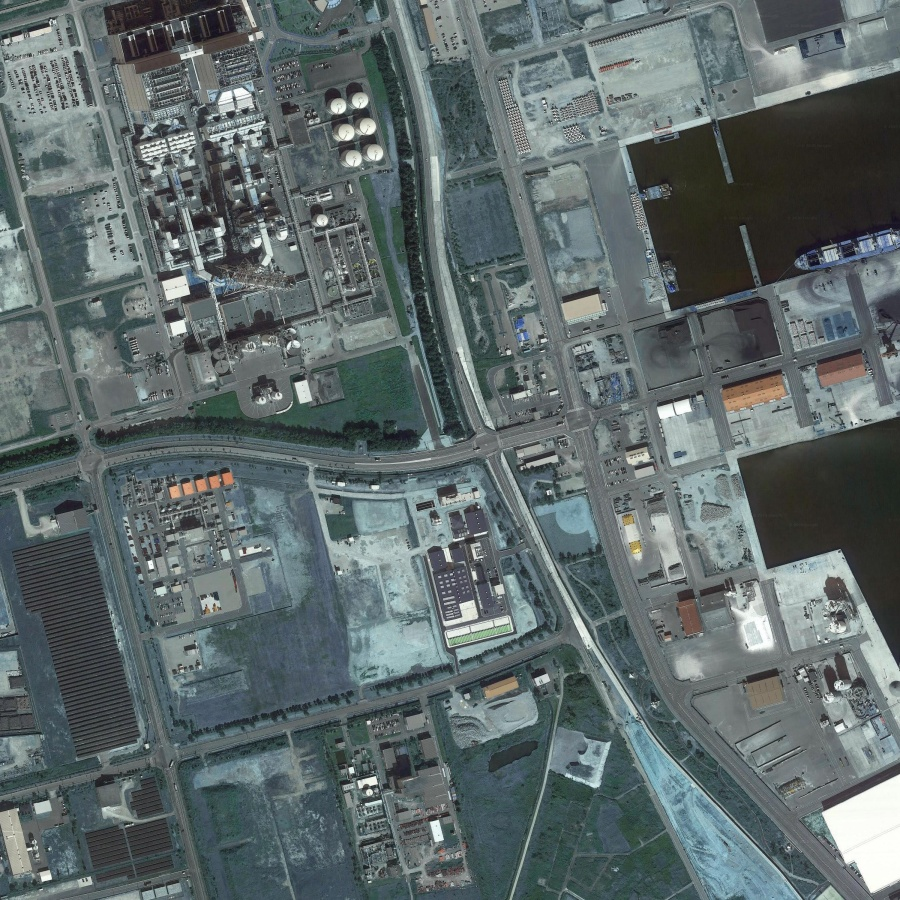PowerPlant: (115, 18, 395, 408)
